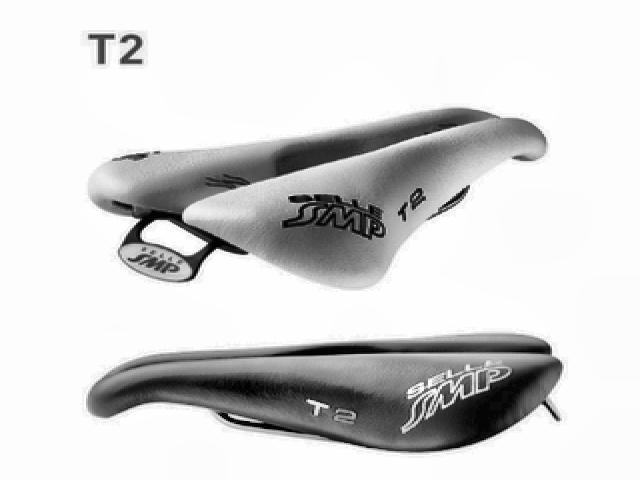saddle: (92, 100, 552, 292), (77, 327, 566, 453)
